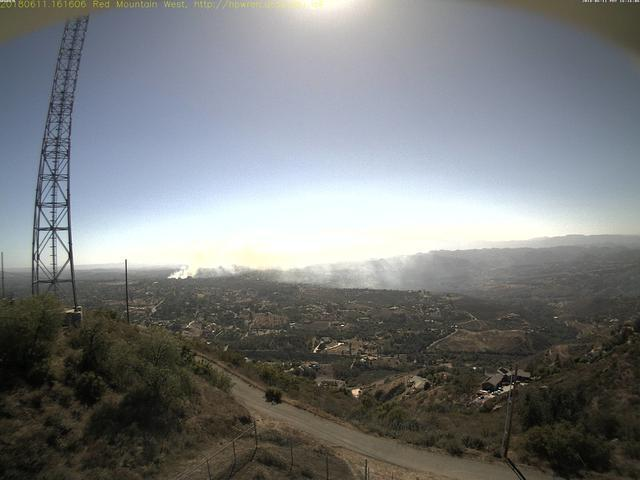smoke: (167, 241, 425, 295)
